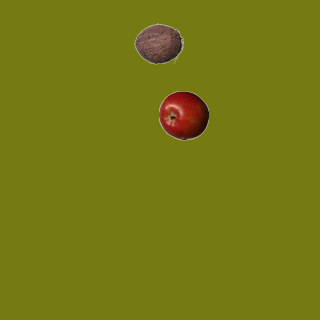Apple Braeburn: (158, 90, 208, 140)
Cocos: (133, 18, 183, 68)
